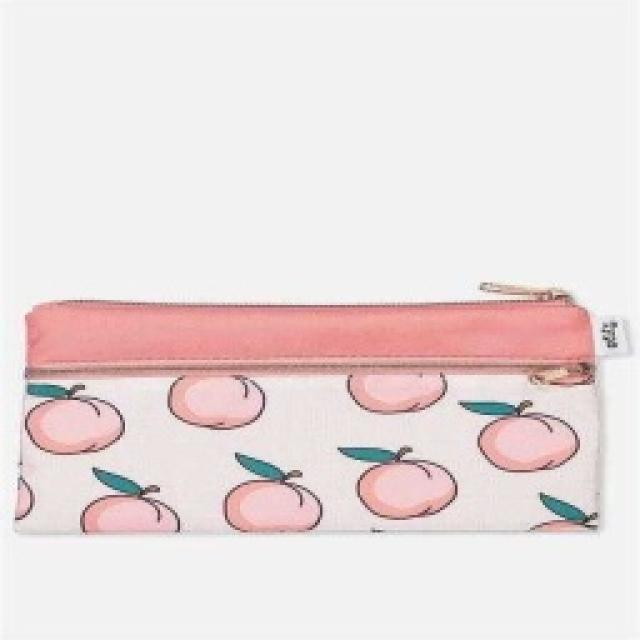pencil: (10, 280, 628, 538)
